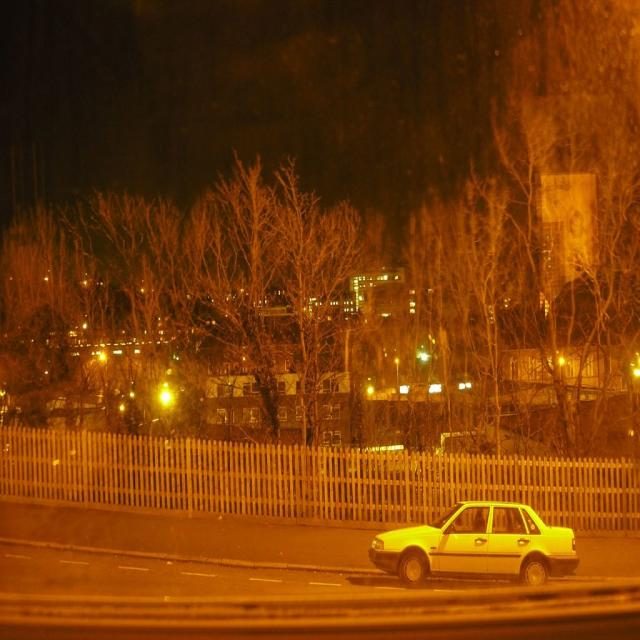car: (369, 495, 580, 590)
